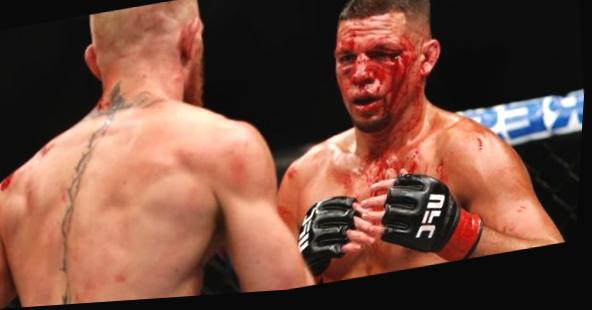Fire: (280, 34, 536, 239), (32, 138, 60, 161), (93, 95, 110, 113), (1, 172, 15, 191)
